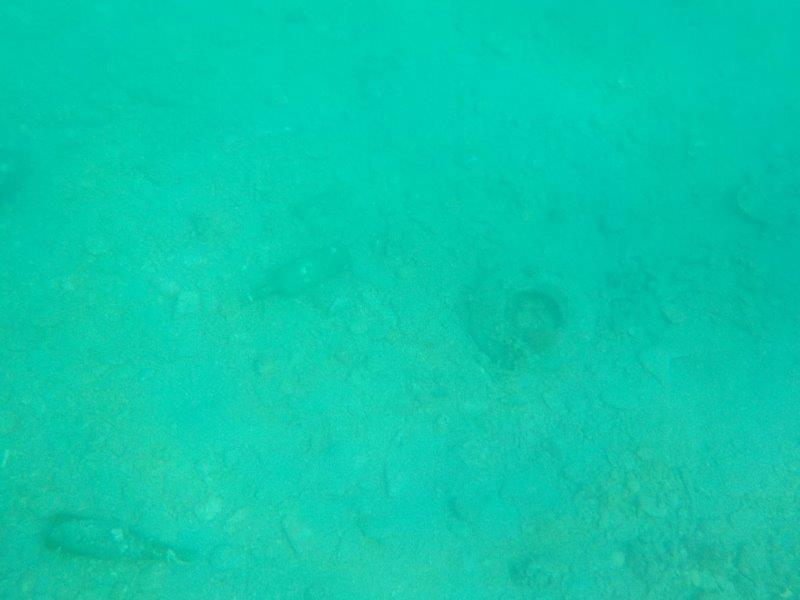bottle: (40, 507, 207, 580), (237, 240, 358, 311)
tire: (468, 255, 605, 374)
